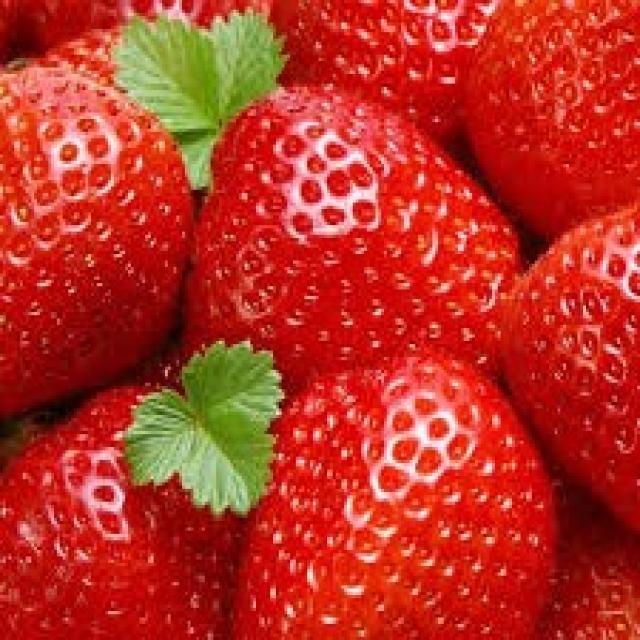strawberry: (204, 93, 512, 368), (239, 363, 532, 639)
